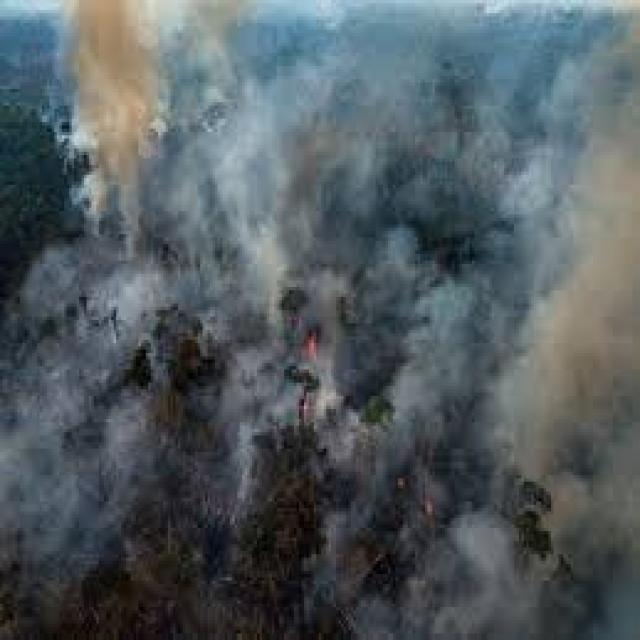Smoke: (381, 361, 640, 640), (0, 320, 216, 614), (214, 0, 382, 327), (48, 1, 215, 317), (216, 327, 380, 640), (383, 1, 640, 195), (383, 195, 640, 360)
